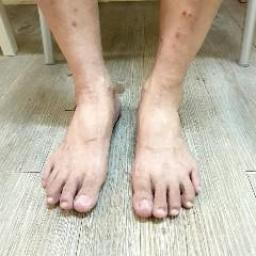Dorsal View -Both Feet-: (26, 65, 213, 237)
